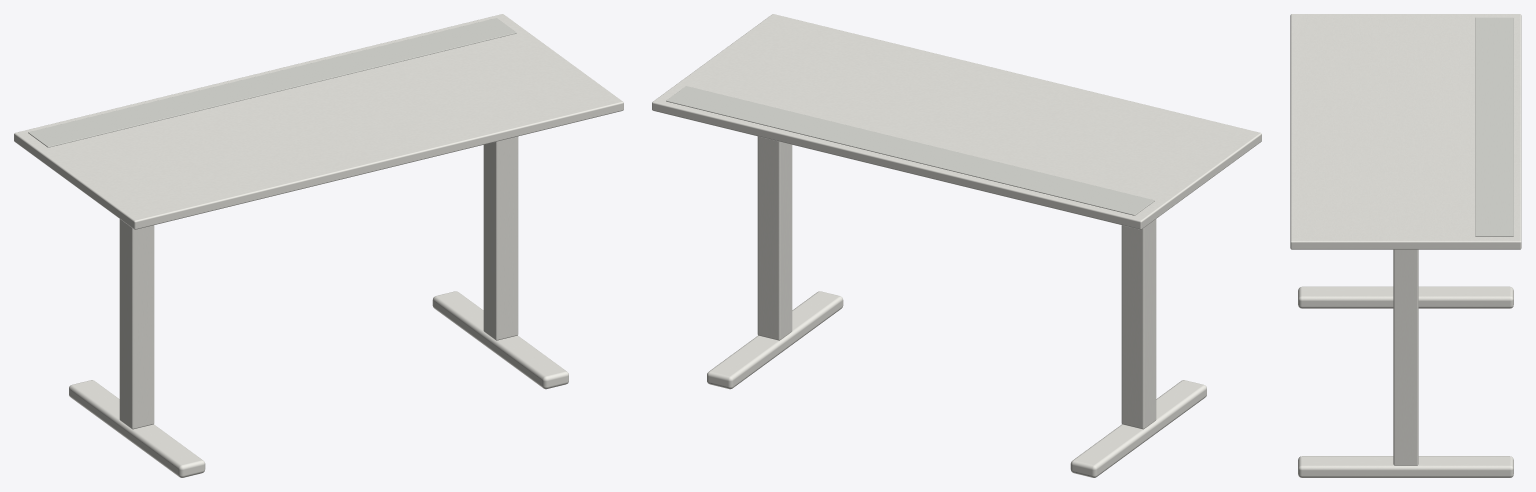
The model's file is mittzon.glb.
3 views of the same model, side by side, from view 1: azimuth 30°, elevation 25°; view 2: azimuth 150°, elevation 25°; view 3: azimuth 270°, elevation 25° (orthographic). The views are drawn at different scales.
Parts seen in each view (by area): view 1: MITTZON Desk 140 × 60; view 2: MITTZON Desk 140 × 60; view 3: MITTZON Desk 140 × 60.
Part boxes in pixels (box(x1,y1,x2,y2)): MITTZON Desk 140 × 60: box(14, 14, 623, 477); MITTZON Desk 140 × 60: box(652, 14, 1261, 477); MITTZON Desk 140 × 60: box(1290, 14, 1521, 477).
Size of the model in its own units: 1.4 by 0.75 by 0.6.
2 materials, 2 textured.
